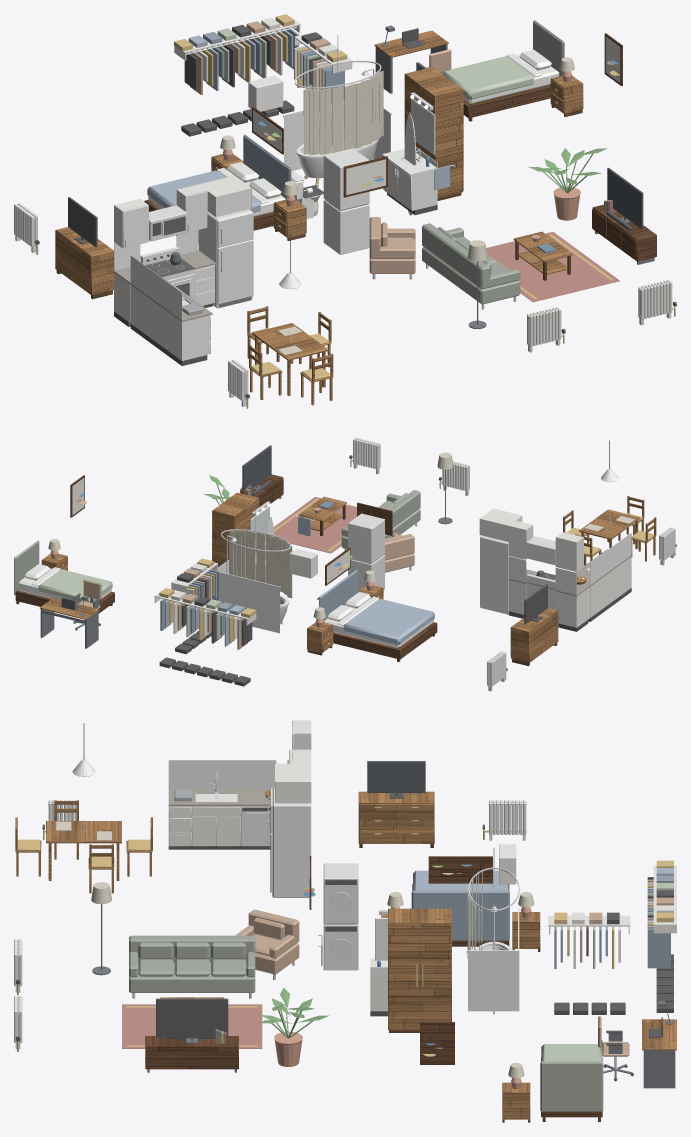
Rendered from apt_l.glb.
3 views of the same model, one above another, from view 1: azimuth 30°, elevation 25°; view 2: azimuth 150°, elevation 25°; view 3: azimuth 270°, elevation 25° (orthographic). The views are drawn at different scales.
Visible parts, largest first — view 1: apt_l_wood, apt_l_cab, apt_l_appl, apt_l_curtain, apt_l_dark, apt_l_dkwood, apt_l_fabric_g, apt_l_tile_w, apt_l_radiator, apt_l_fabric_t, apt_l_paper, apt_l_rug (+15 smaller); view 2: apt_l_wood, apt_l_cab, apt_l_appl, apt_l_tile_w, apt_l_dark, apt_l_curtain, apt_l_dkwood, apt_l_bed_b, apt_l_radiator, apt_l_fabric_t, apt_l_bed_w, apt_l_fabric_g (+10 smaller); view 3: apt_l_wood, apt_l_fabric_g, apt_l_appl, apt_l_dkwood, apt_l_tile_w, apt_l_dark, apt_l_cab, apt_l_fabric2, apt_l_fabric_t, apt_l_rug, apt_l_radiator, apt_l_trim (+11 smaller).
Part boxes in pixels (box(x1,y1,x2,y2)): apt_l_wood: box(55, 30, 583, 405); apt_l_cab: box(114, 158, 437, 360); apt_l_appl: box(140, 148, 369, 308); apt_l_curtain: box(220, 57, 574, 354); apt_l_dark: box(35, 24, 676, 398); apt_l_dkwood: box(56, 33, 656, 299); apt_l_fabric_g: box(422, 20, 564, 304); apt_l_tile_w: box(114, 101, 391, 320); apt_l_radiator: box(14, 203, 672, 406); apt_l_fabric_t: box(190, 21, 451, 273); apt_l_paper: box(196, 17, 620, 195); apt_l_rug: box(264, 61, 619, 302); apt_l_wood: box(39, 492, 656, 662); apt_l_cab: box(255, 508, 631, 627); apt_l_appl: box(348, 513, 555, 614); apt_l_tile_w: box(215, 533, 631, 633); apt_l_dark: box(61, 440, 676, 686); apt_l_curtain: box(48, 452, 634, 619); apt_l_dkwood: box(15, 474, 557, 665); apt_l_bed_b: box(165, 516, 434, 646); apt_l_radiator: box(353, 437, 675, 691); apt_l_fabric_t: box(79, 533, 414, 649); apt_l_bed_w: box(18, 564, 433, 647); apt_l_fabric_g: box(14, 490, 420, 595); apt_l_wood: box(15, 789, 676, 1119); apt_l_fabric_g: box(129, 935, 603, 1111); apt_l_appl: box(241, 749, 358, 970); apt_l_dkwood: box(145, 844, 602, 1122); apt_l_tile_w: box(168, 760, 519, 1011); apt_l_dark: box(15, 723, 673, 1081); apt_l_cab: box(168, 720, 387, 1011); apt_l_fabric2: box(411, 875, 673, 968); apt_l_fabric_t: box(235, 879, 673, 1056); apt_l_rug: box(122, 873, 462, 1048); apt_l_radiator: box(14, 800, 526, 1049); apt_l_trim: box(375, 844, 676, 960).
Bounding box in the file's own units: 11.68 × 3.05 × 11.35.
38 materials, 2 textured.
